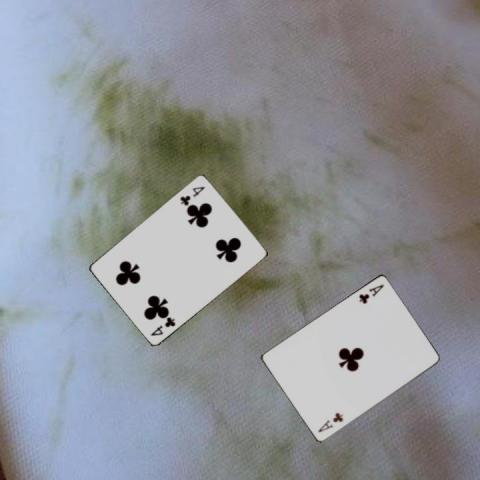4c: (176, 182, 206, 206), (148, 314, 177, 337)
Ac: (314, 410, 344, 434), (356, 282, 385, 306)
